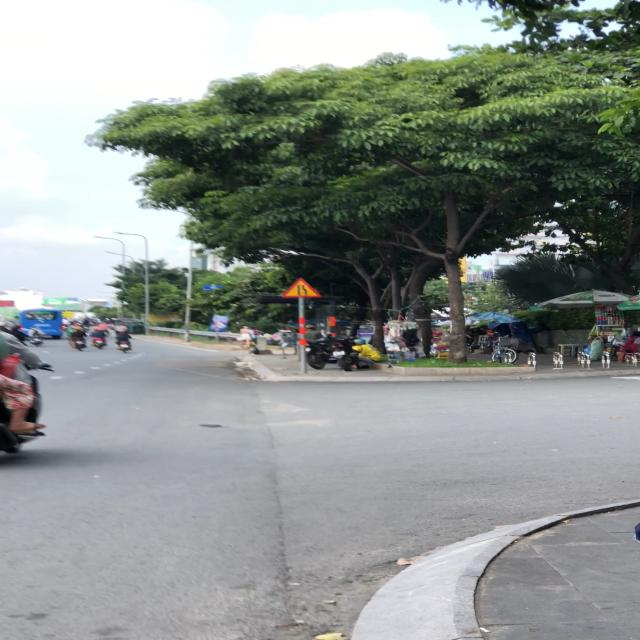Bien bao duong bi thu hep: (279, 276, 321, 298)
